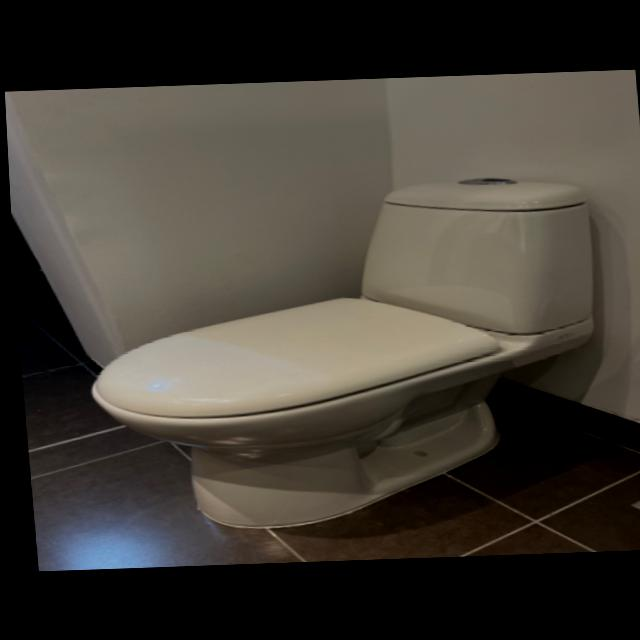toilet: (68, 172, 612, 534)
